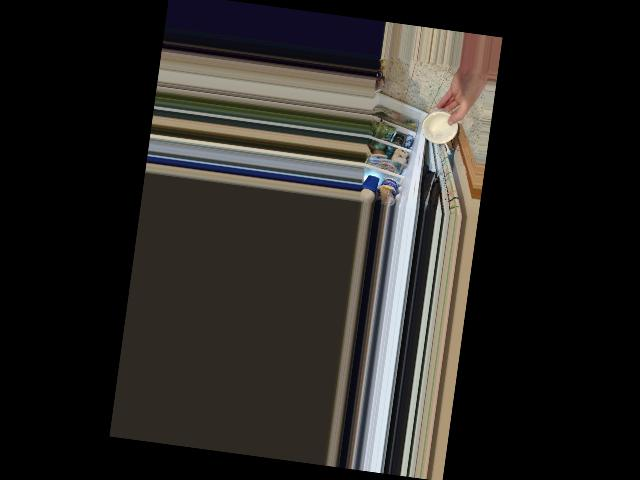cotage: (418, 109, 457, 150)
